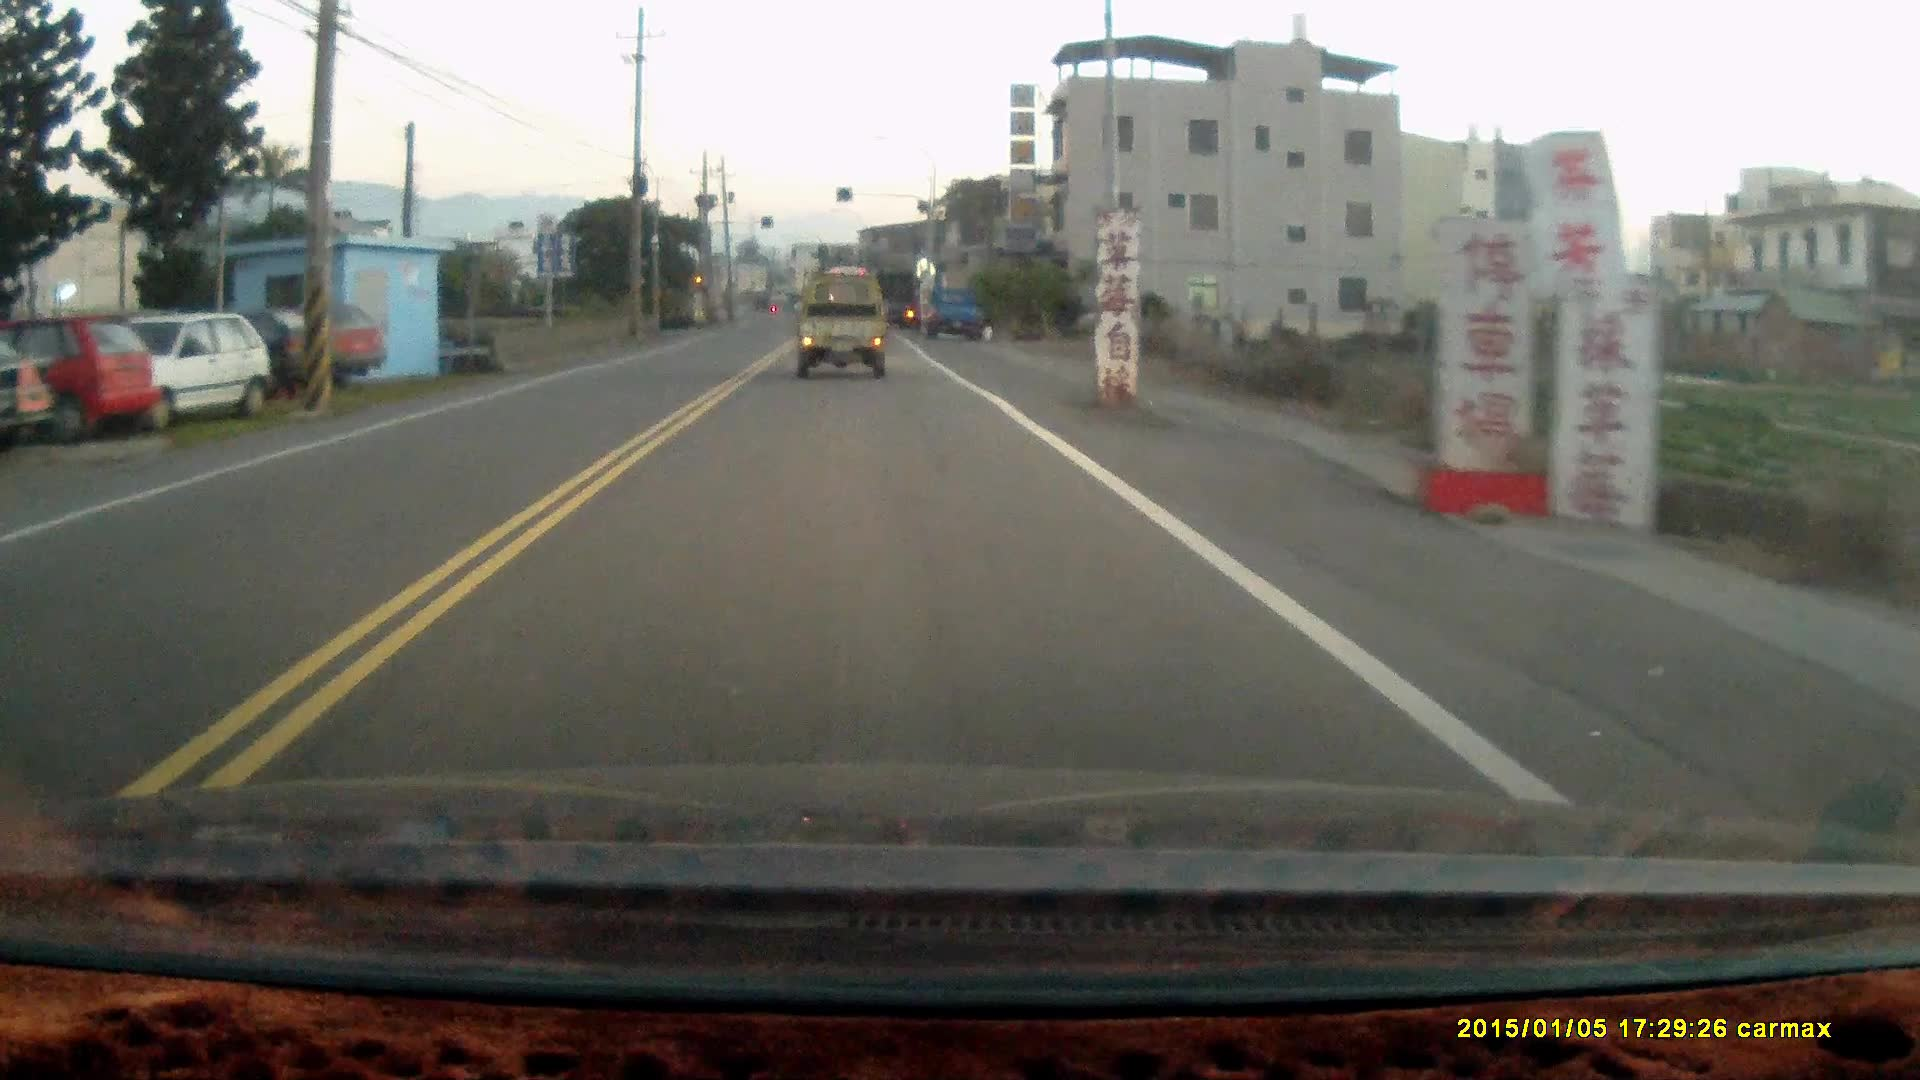vehicle: (1, 316, 179, 435), (74, 313, 272, 418), (225, 301, 396, 389), (796, 269, 894, 382), (919, 285, 989, 342)
